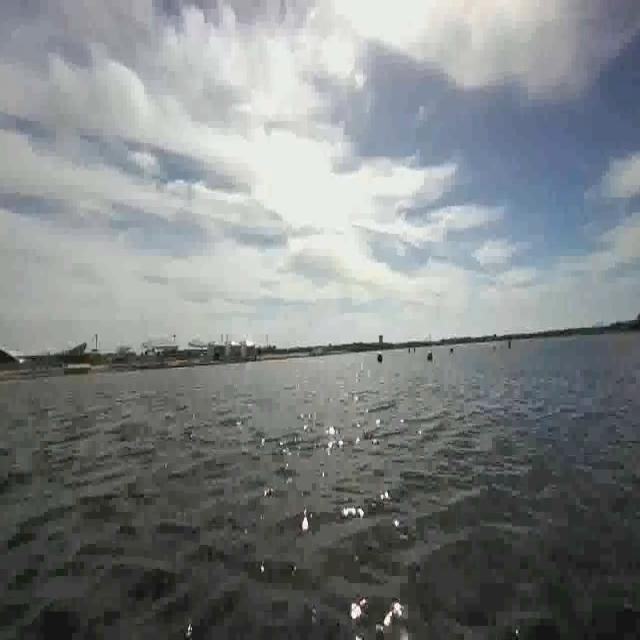black-buoy: (426, 347, 434, 361), (377, 348, 383, 365)
